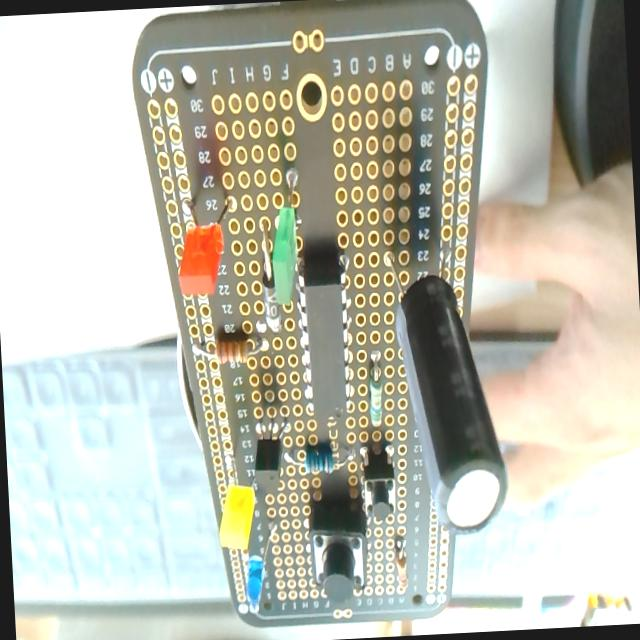Electrolytic capacitor: (387, 235, 512, 540)
IC: (296, 246, 358, 414)
diode: (259, 225, 282, 332)
led: (174, 191, 234, 298), (268, 165, 304, 304), (218, 483, 258, 552), (248, 531, 280, 609)
resistor: (286, 441, 356, 476), (194, 332, 266, 366), (366, 351, 385, 428), (394, 539, 410, 593)
switch: (306, 499, 371, 604), (362, 445, 397, 524)
transistor: (250, 411, 296, 504)
